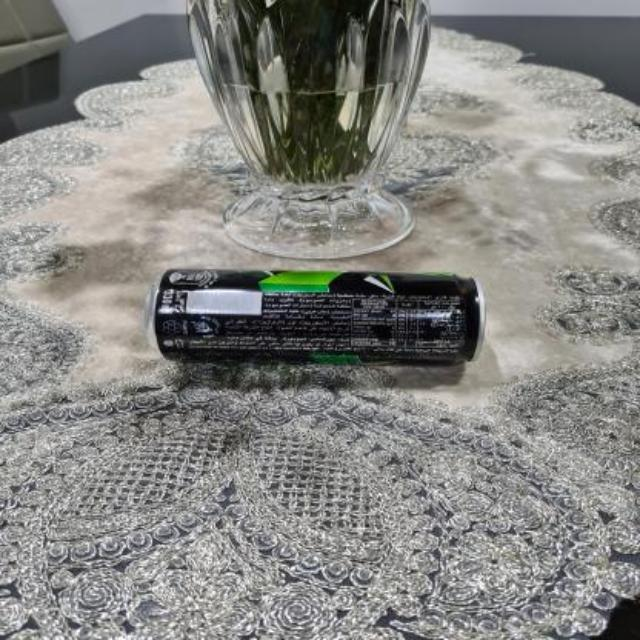metal: (151, 268, 482, 360)
